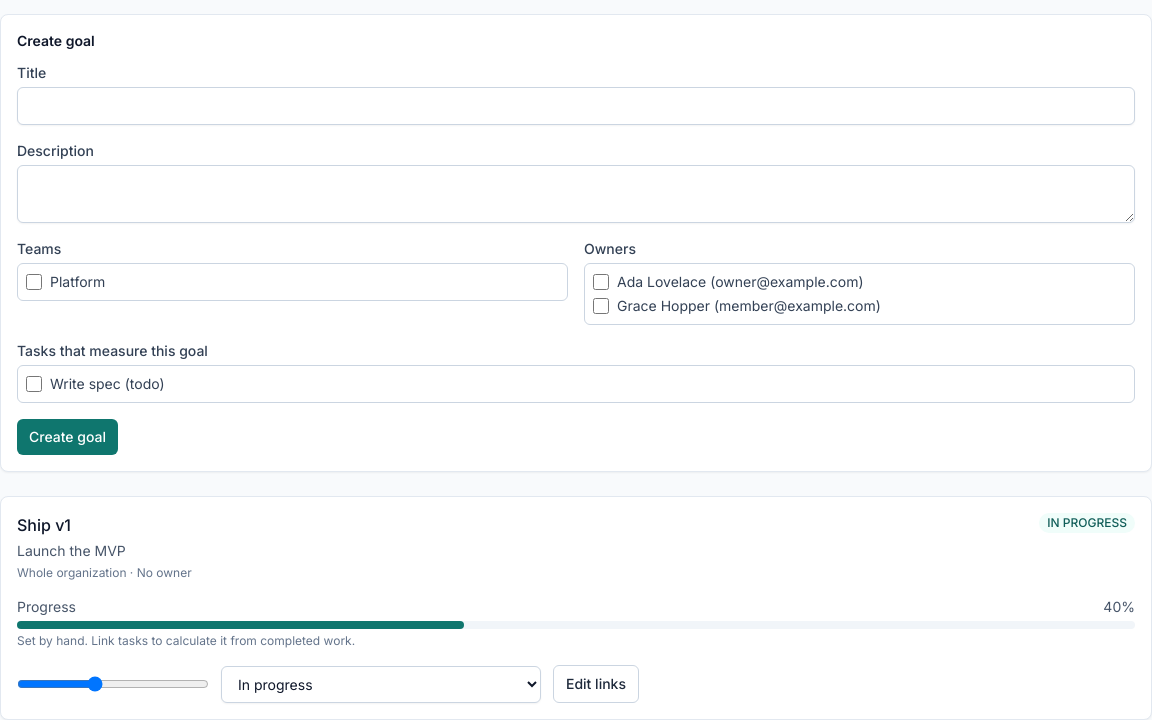
Scenario: GoalsPage › shows a failed link change next to the goal
The width and height of the screenshot is (1152, 720).
(page scrolled)
expect the heading "Ship v1" is shown: met, box [17,515,71,535]
Select "Completed" in the dropdown named "Status for Ship v1" at [381, 684], box [221,666,541,702]
(page scrolled)
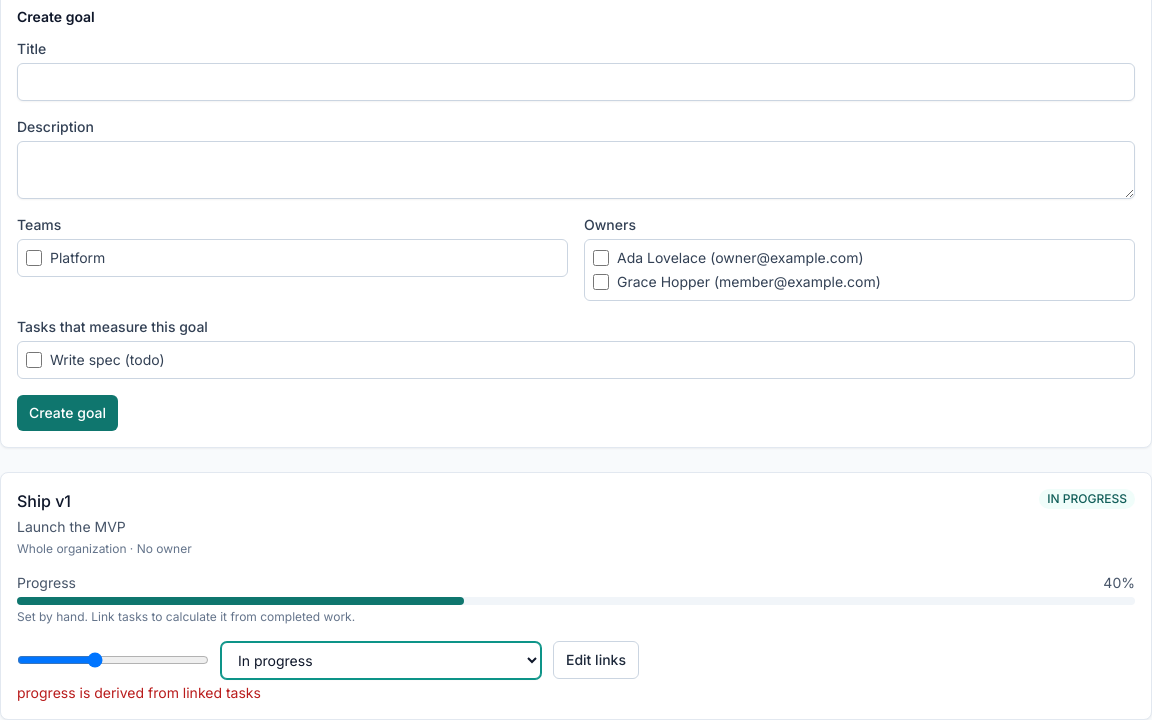
expect the text "progress is derived from linked tasks" is shown: met, box [17,684,261,701]
